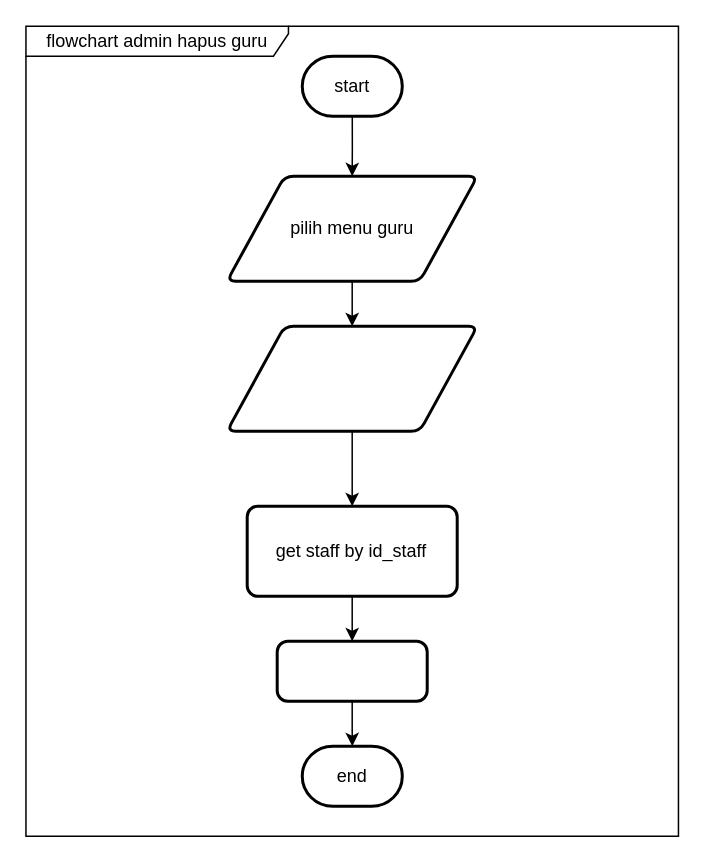
Some shapes in this 705 by 863 pixel diagram are drawn without their labels. The shapes that lost their labels are listed below. From the top down, each one's centre as x and y in pixels, then its label:
At point (351, 378): "hapus guru".
At point (351, 670): "delete data staff".
